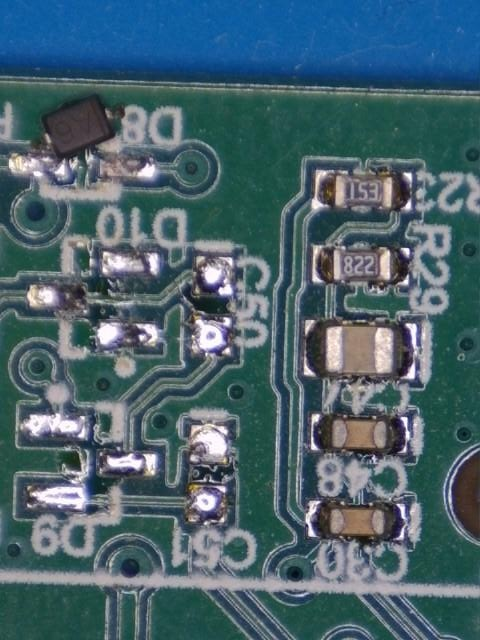pcb_defect: (9, 94, 126, 178)
